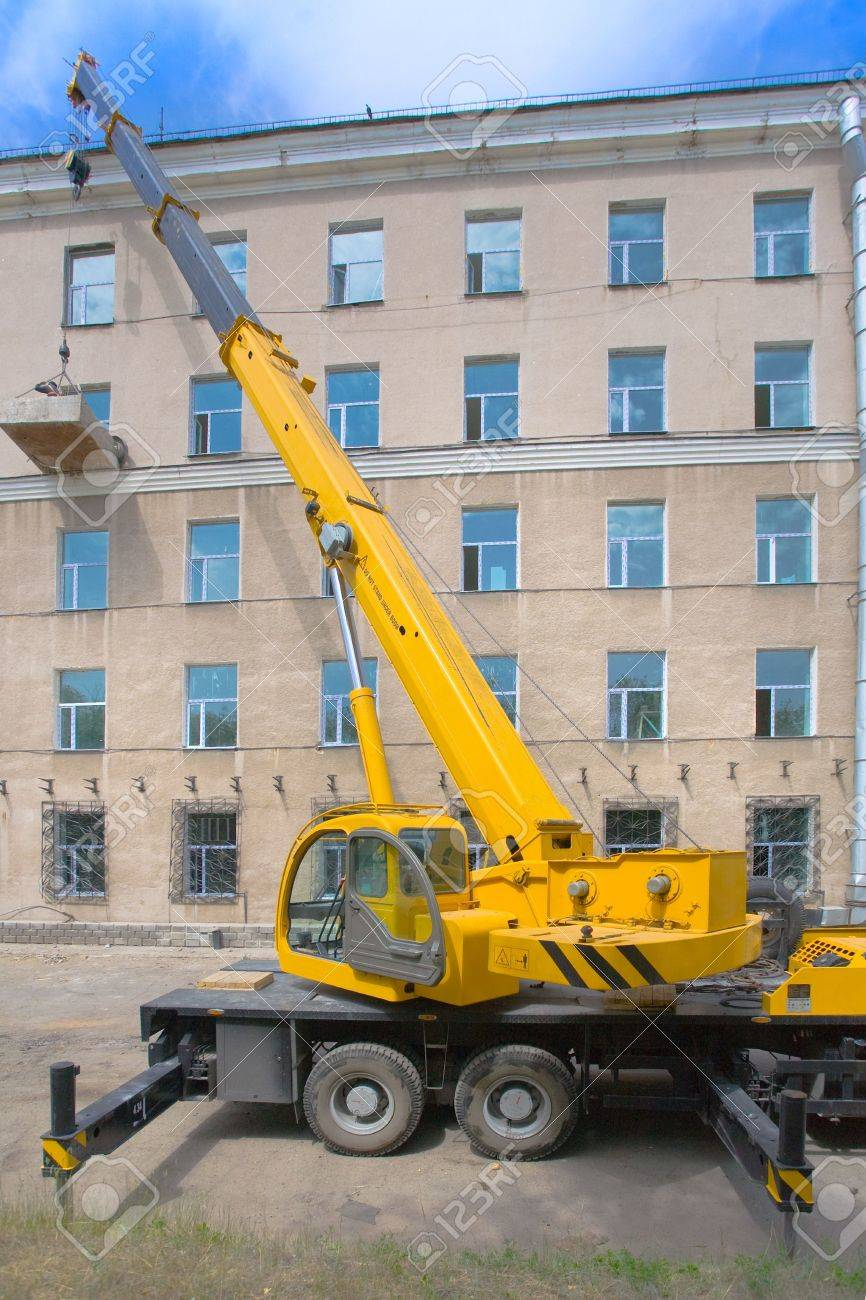crane: (54, 42, 845, 1172)
